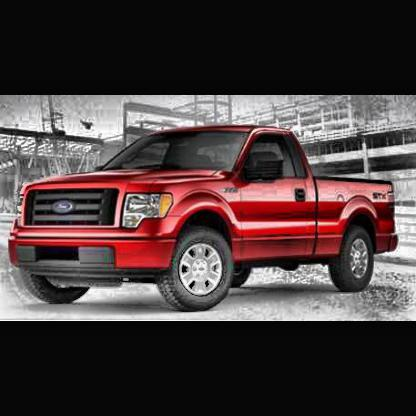Ford F-150 Regular Cab 2012: (12, 125, 399, 314)
